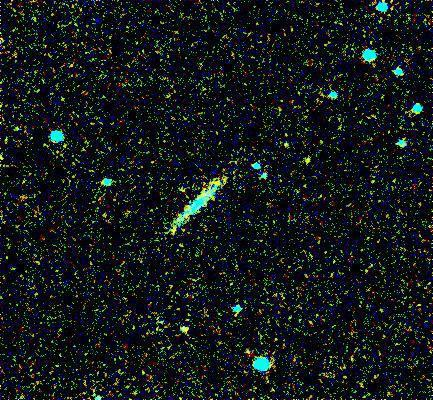star: (292, 149, 322, 179)
